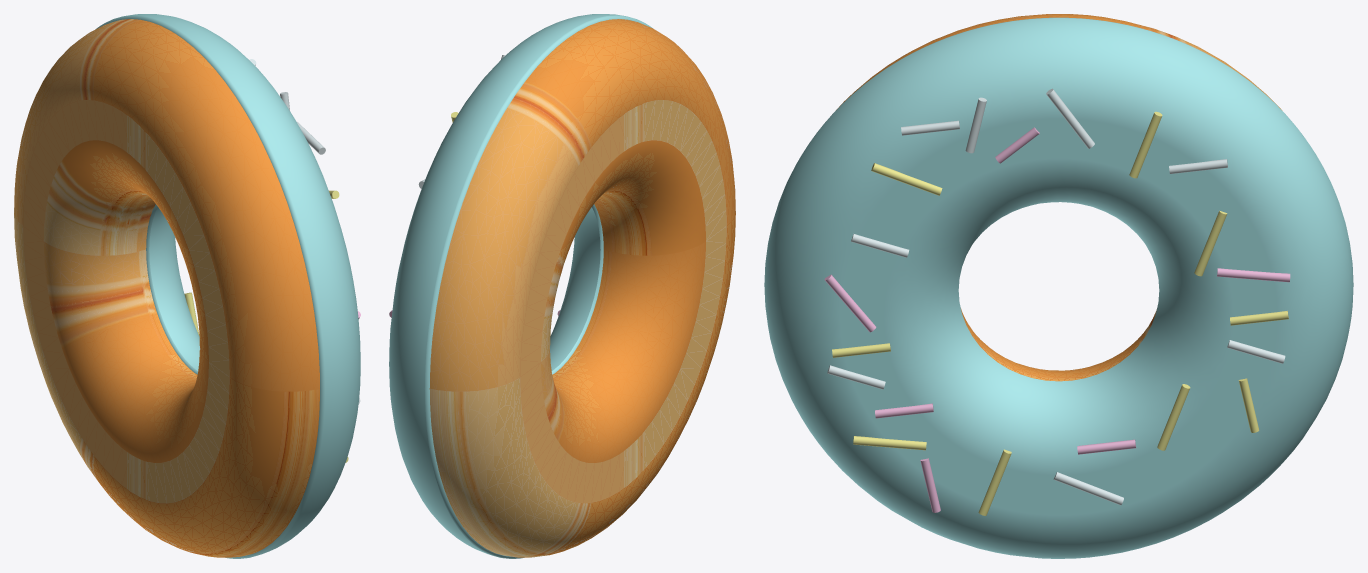
File: 0-Donut.fbx
3 views of the same model, side by side, from view 1: azimuth 30°, elevation 25°; view 2: azimuth 150°, elevation 25°; view 3: azimuth 270°, elevation 25° (orthographic). The views are drawn at different scales.
Parts seen in each view (by area): view 1: Sweep [14047]; view 2: Sweep [14047]; view 3: Sweep [14047].
Boxes of the visible parts, x1=… form: Sweep [14047]: x1=14, y1=14, x2=360, y2=558; Sweep [14047]: x1=389, y1=14, x2=735, y2=558; Sweep [14047]: x1=764, y1=14, x2=1353, y2=558.
Size of the model in its own units: 105 by 404 by 404.
5 materials, 1 textured.
